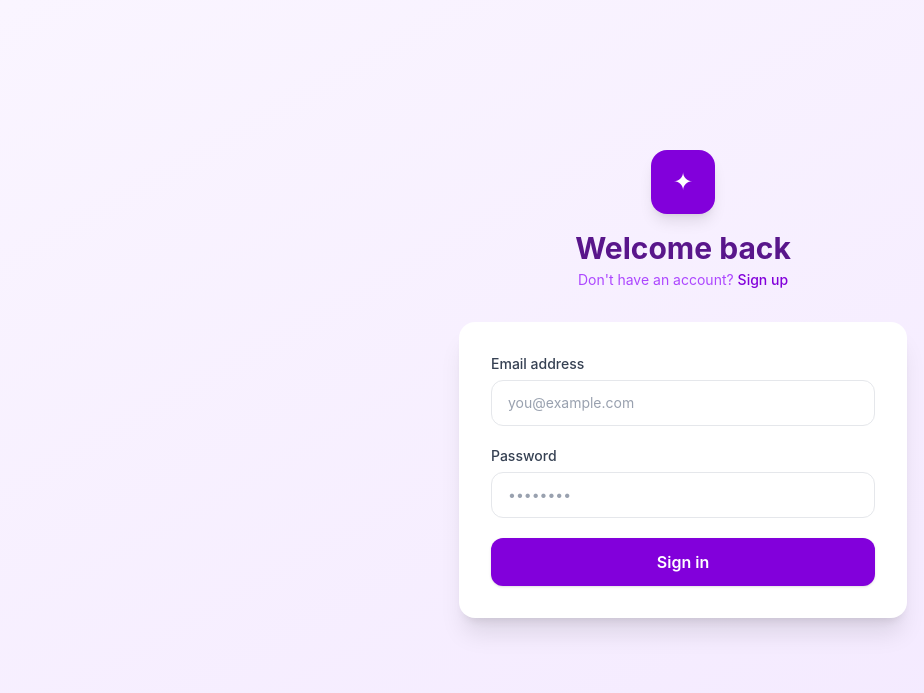
LoginPage › renders an error message on failed login
Type "demo@example.com" into the field labelled "Email address" at (683,403), box [491,380,875,426]
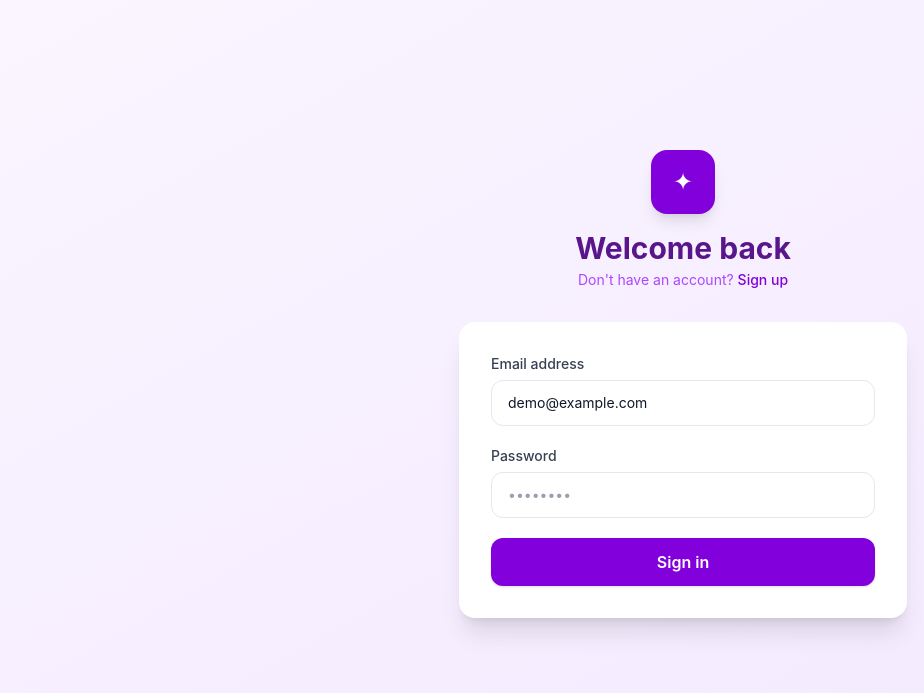
Type "bad-password" into the password field labelled "Password" at (683,495), box [491,472,875,518]
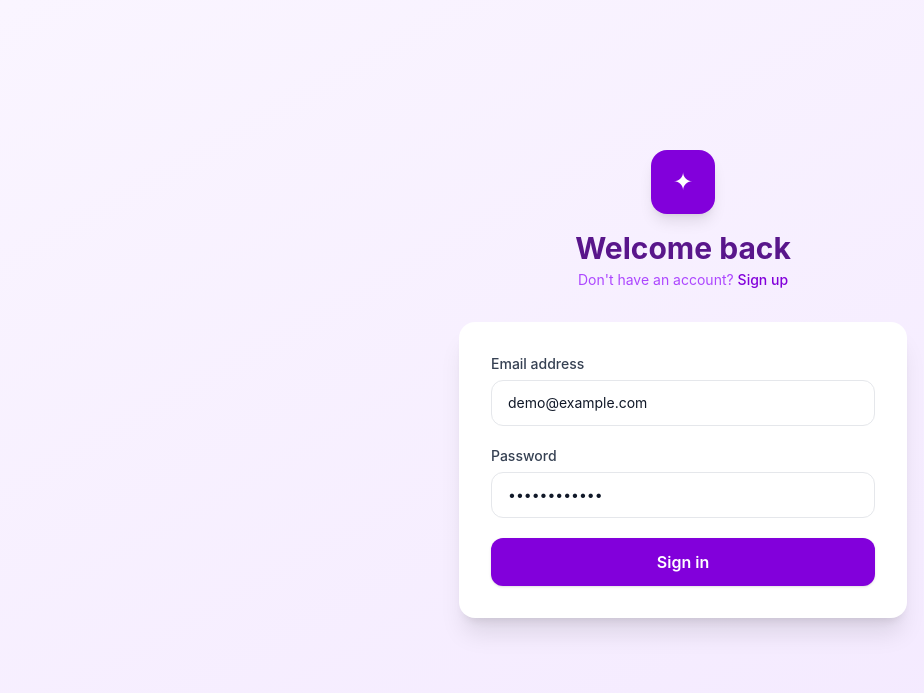
Click the button "Sign in" at (683,562), box [491,538,875,586]
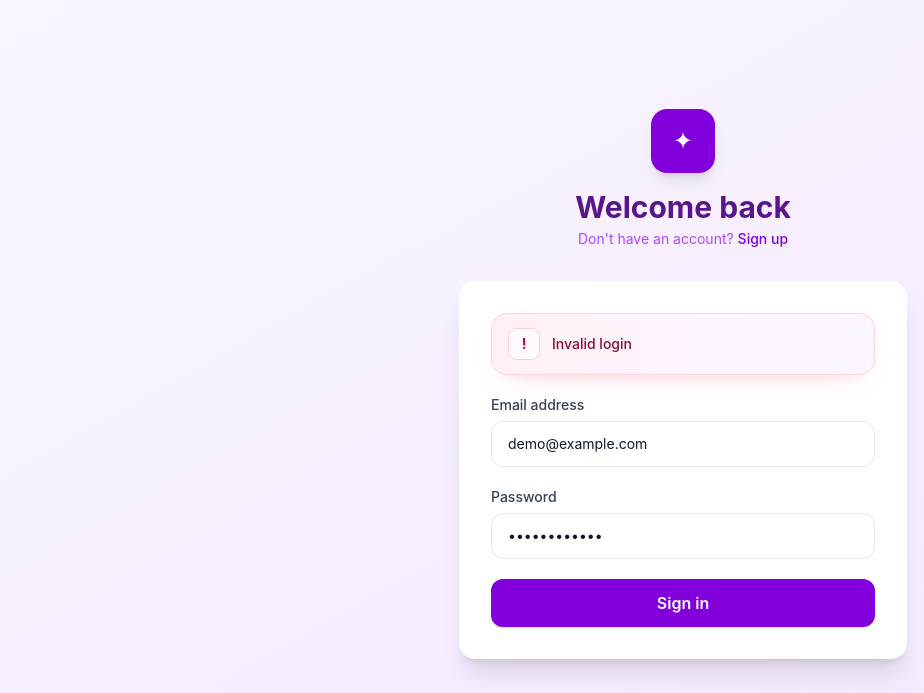
Check: the text "Invalid login" is shown, box [552,334,632,354]
